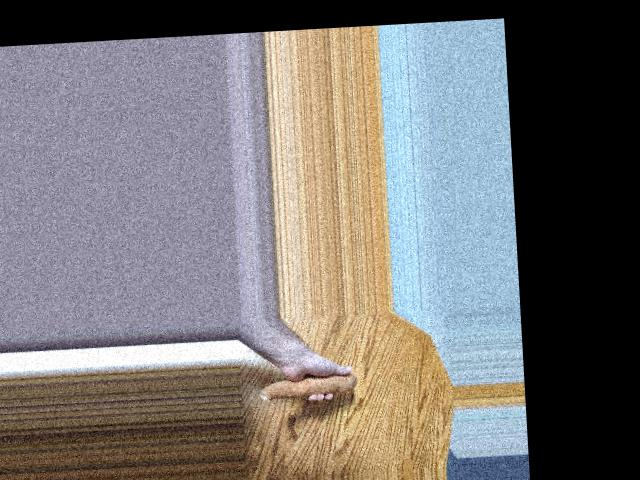sweet_potato: (257, 365, 354, 399)
